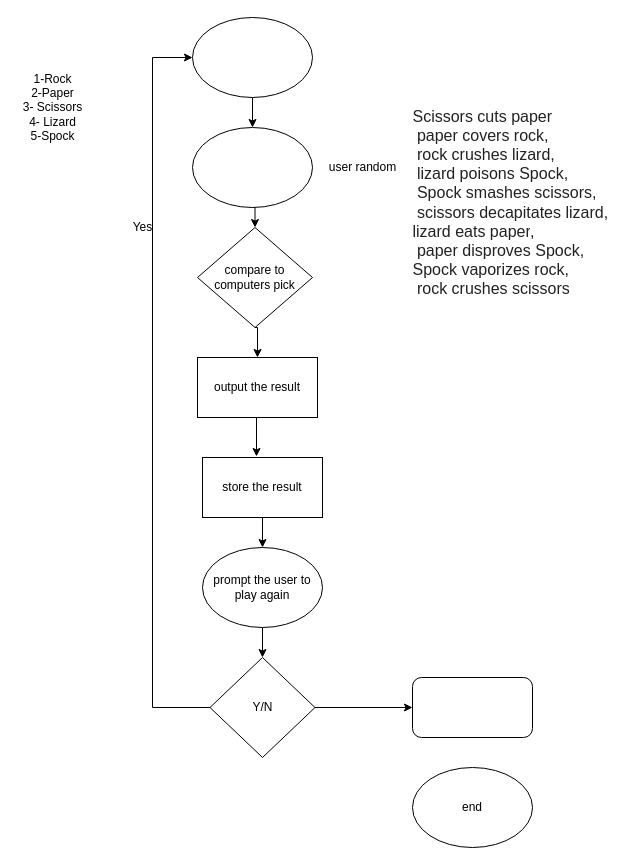
Image size: 639x865. Some labels were removed from this diagram. Here are the shapes that lost their labels. From the top down, the centre of each, then its label:
(252,57): input guess (as a number)
(252,167): get computer's pick
(472,707): out winning percentages
